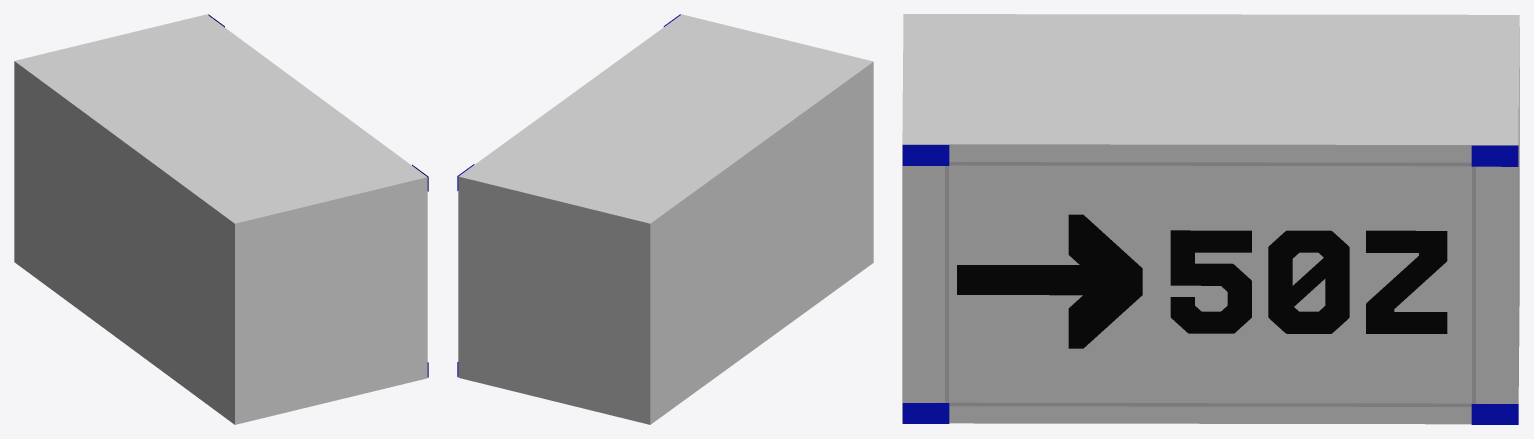
The picture shows the model from 3 angles, left to right: view 1: azimuth 30°, elevation 25°; view 2: azimuth 150°, elevation 25°; view 3: azimuth 270°, elevation 25°; orthographic projection. The views are drawn at different scales.
Parts seen in each view (by area): view 1: Cube.001; view 2: Cube.001; view 3: Cube.001, Text.048, Text.050, Text.049, Text.051, Text.052, Text.047, Text.044, Text.045, Text.046, Text.054, Text.053.
Boxes of the visible parts, x1,y1,x2,y2 form: Cube.001: (14,14,427,424); Cube.001: (458,14,873,424); Cube.001: (902,14,1519,424); Text.048: (1170,230,1447,333); Text.050: (1068,214,1142,348); Text.049: (957,265,1097,295); Text.051: (949,162,1471,166); Text.052: (939,402,1483,406); Text.047: (1471,145,1518,166); Text.044: (902,145,949,165); Text.045: (902,403,949,423); Text.046: (1471,404,1518,424); Text.054: (1472,166,1475,403); Text.053: (945,166,948,402).
Bounding box in the file's own units: 203 × 200 × 401.
